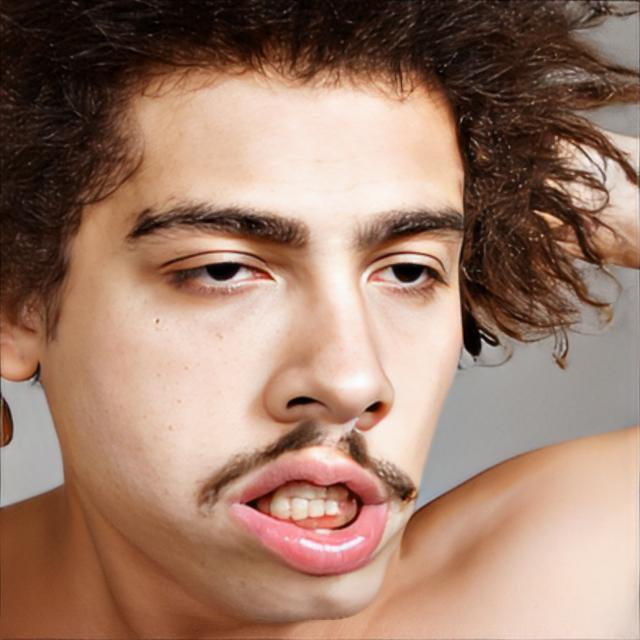neutral: (39, 42, 468, 624)
